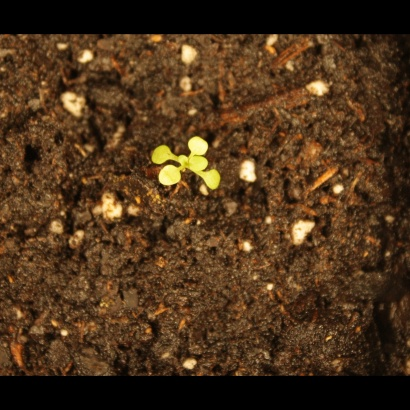leaf: (158, 165, 182, 189), (150, 143, 173, 166), (202, 169, 225, 192), (187, 135, 210, 158), (187, 154, 210, 177)
